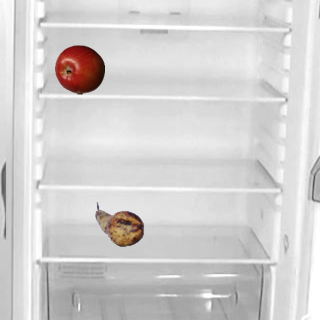Apple Braeburn: (54, 44, 104, 94)
Pear Abate: (94, 199, 144, 249)
